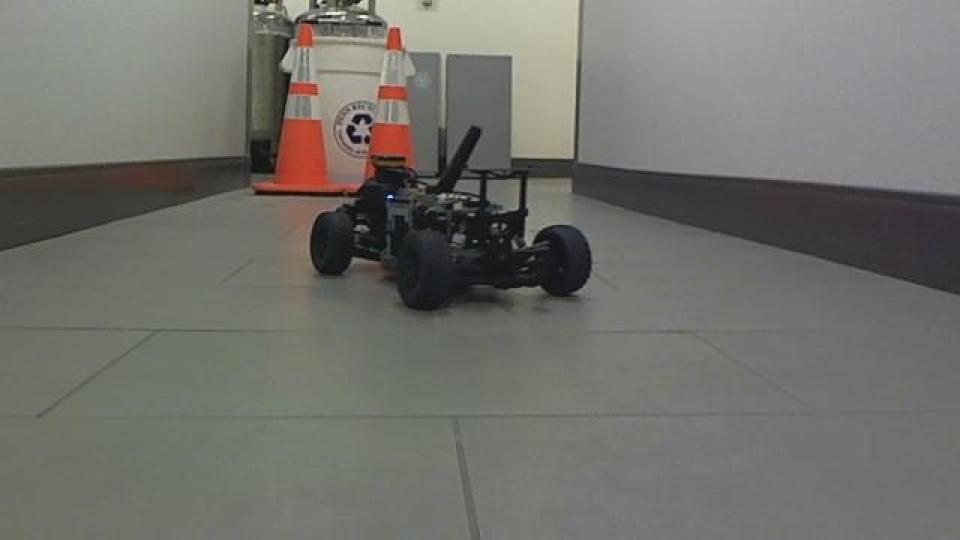car: (304, 120, 594, 314)
